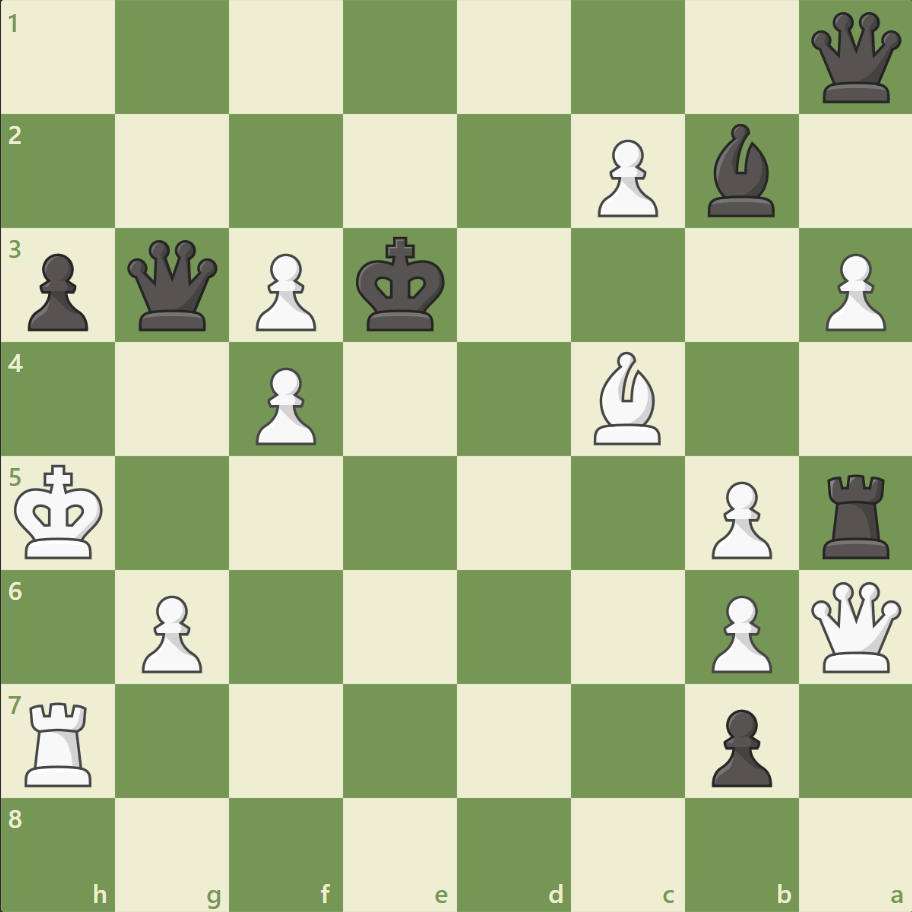B: (585, 347, 669, 449)
K: (11, 458, 111, 566)
P: (701, 586, 776, 677), (133, 586, 208, 677), (701, 473, 776, 564), (247, 359, 322, 450), (247, 246, 322, 337), (815, 246, 889, 337), (588, 132, 662, 223)
Q: (805, 576, 904, 676)
R: (19, 693, 102, 790)
b: (698, 120, 782, 222)
k: (351, 231, 451, 339)
p: (701, 700, 776, 791), (20, 246, 95, 337)
q: (124, 236, 223, 335), (805, 9, 904, 108)
r: (814, 466, 897, 563)
